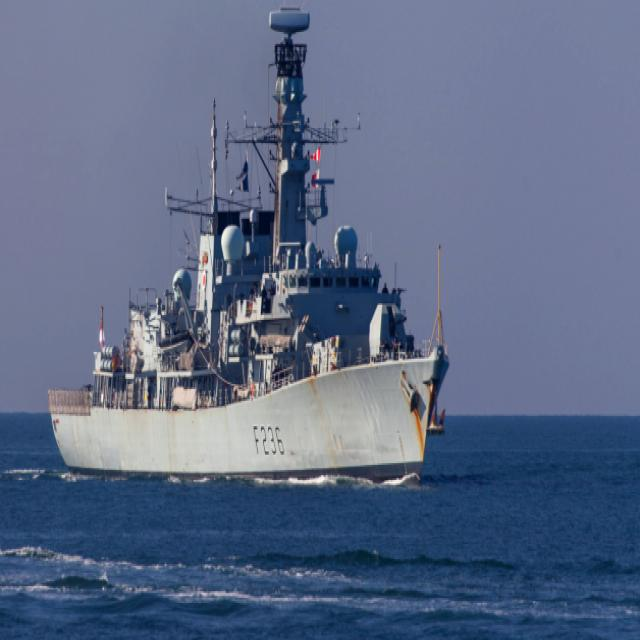Fragata: (48, 1, 457, 493)
